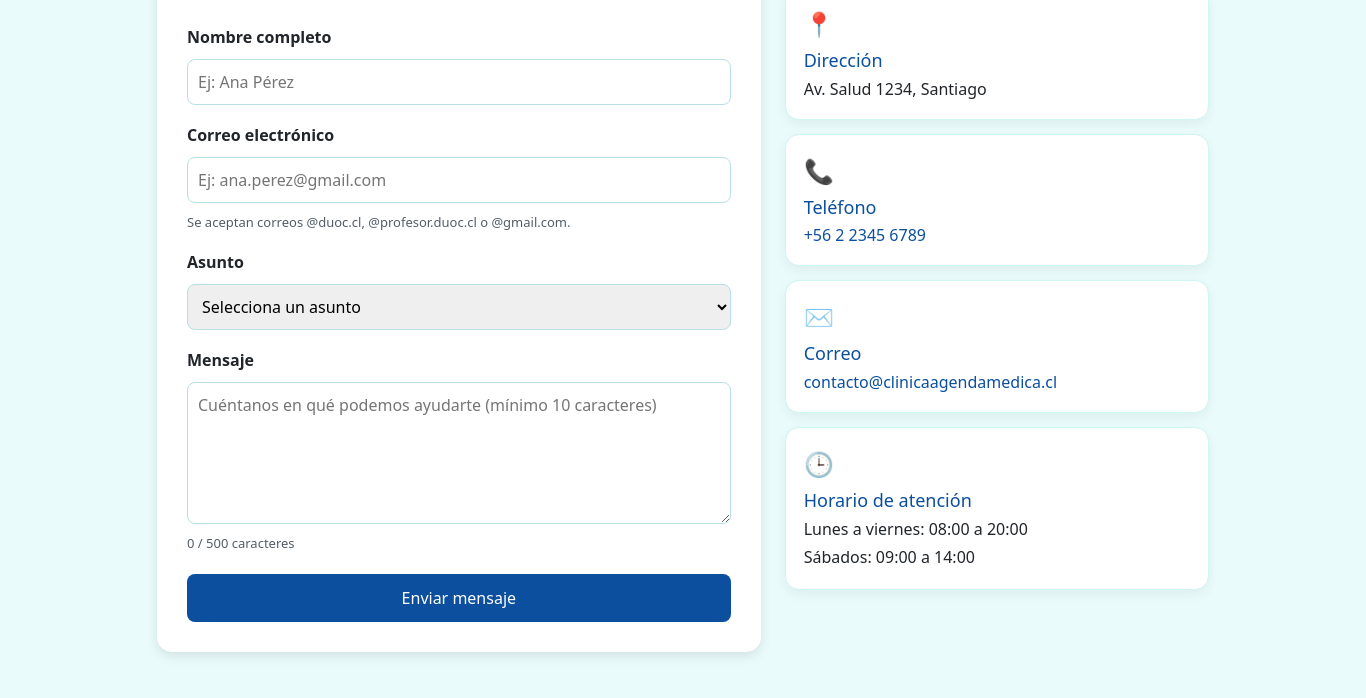
Test: Contacto › muestra un mensaje de error por cada campo inválido al enviar vacío
The image size is (1366, 698).
(page scrolled)
Click the button "Enviar mensaje" at (459, 598), box [187,574,731,622]
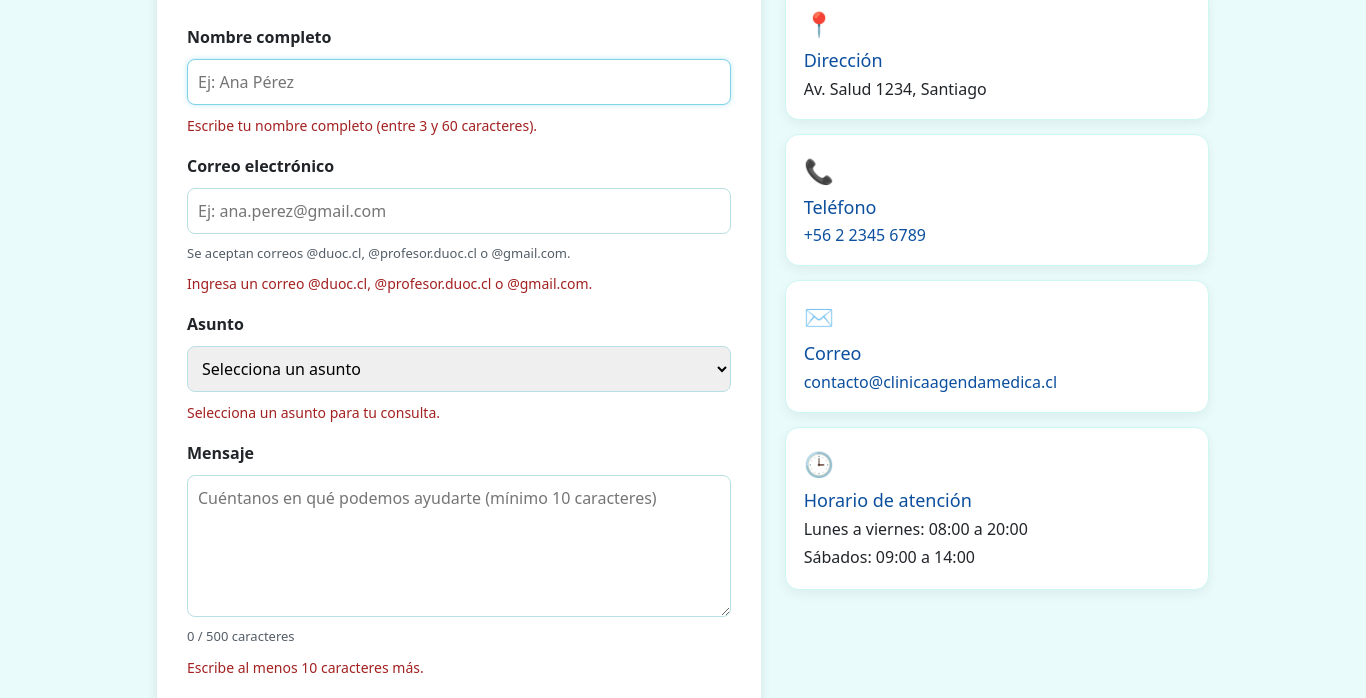
Expected: the text "Escribe tu nombre completo (entre 3 y 60 caracteres)." is shown, [187,116,537,135]
Expected: the text "Ingresa un correo @duoc.cl, @profesor.duoc.cl o @gmail.com." is shown, [187,274,592,294]
Expected: the text "Selecciona un asunto para tu consulta." is shown, [187,404,440,422]
